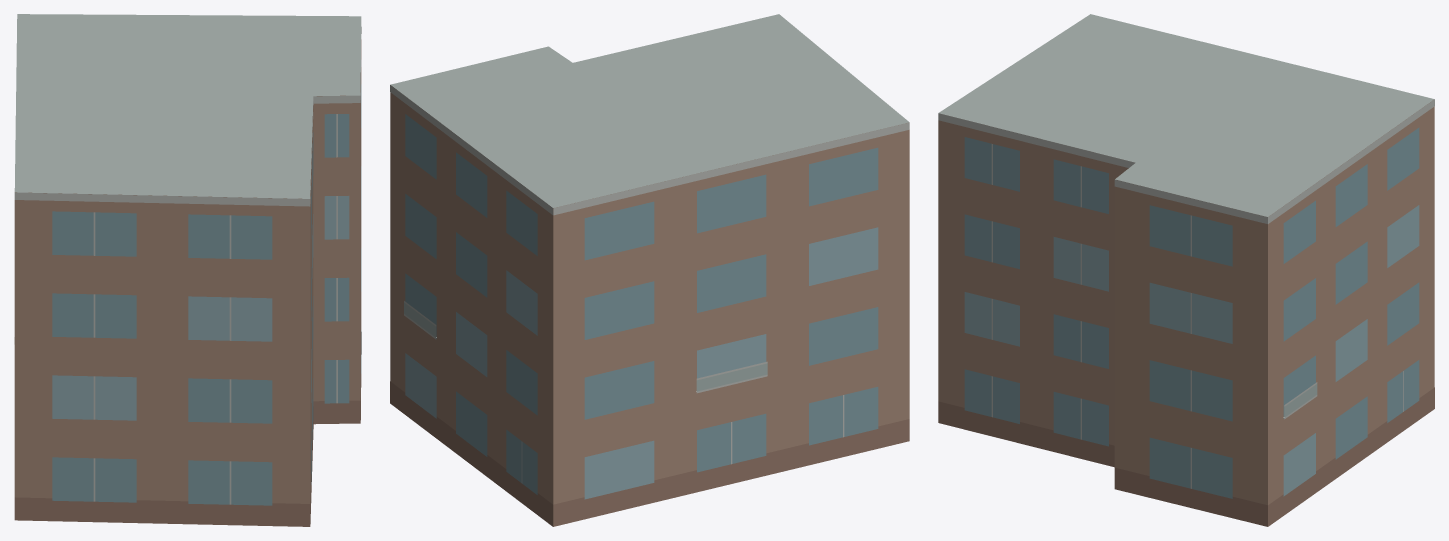
Rendered from survey-upis-32746411.glb.
3 renders of one model, left to right at view 1: azimuth 30°, elevation 25°; view 2: azimuth 150°, elevation 25°; view 3: azimuth 270°, elevation 25°, orthographic. The views are drawn at different scales.
Visible parts, largest first — view 1: survey-upis-32746411.tmp; view 2: survey-upis-32746411.tmp; view 3: survey-upis-32746411.tmp.
Part boxes in pixels (box(x1,y1,x2,y2)): survey-upis-32746411.tmp: box(14, 14, 361, 526); survey-upis-32746411.tmp: box(390, 14, 909, 526); survey-upis-32746411.tmp: box(938, 14, 1434, 526).
Bounding box in the file's own units: 14.91 × 10.6 × 15.4.
